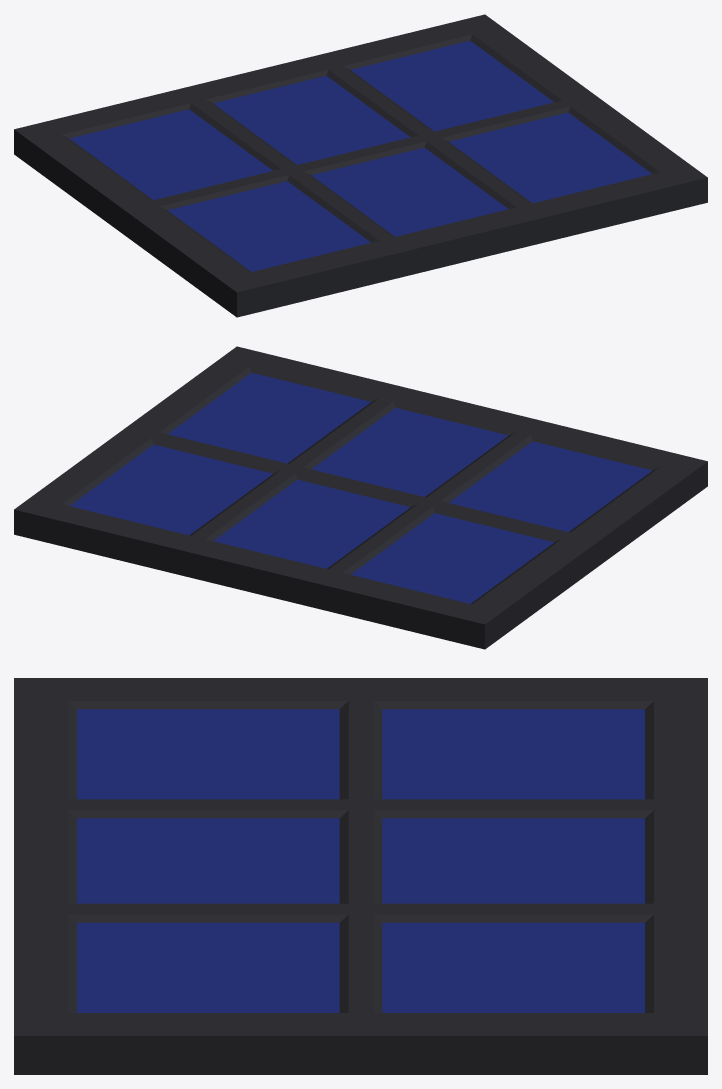
File: LPWarPack_SolarPanel2.fbx
3 views of the same model, one above another, from view 1: azimuth 30°, elevation 25°; view 2: azimuth 150°, elevation 25°; view 3: azimuth 270°, elevation 25° (orthographic). The views are drawn at different scales.
Parts seen in each view (by area): view 1: SolarPanel2; view 2: SolarPanel2; view 3: SolarPanel2.
Part boxes in pixels (<box>): SolarPanel2: <box>14,14,707,317</box>; SolarPanel2: <box>14,346,707,649</box>; SolarPanel2: <box>14,678,707,1074</box>.
Size of the model in its own units: 85.91 by 4.37 by 70.43.
